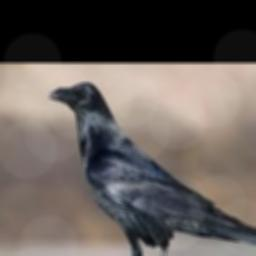Crow: (48, 81, 256, 256)
